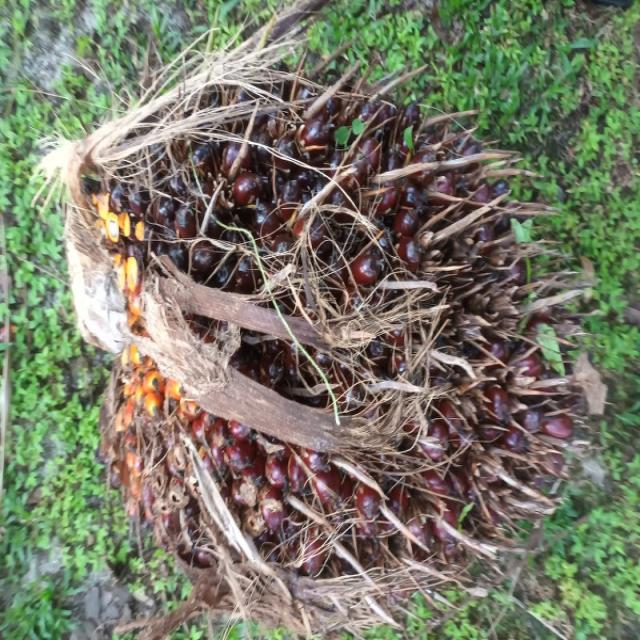fraksi 1: (0, 32, 443, 640)
